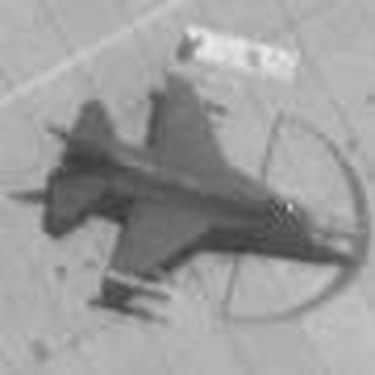airplane: (20, 60, 366, 315)
